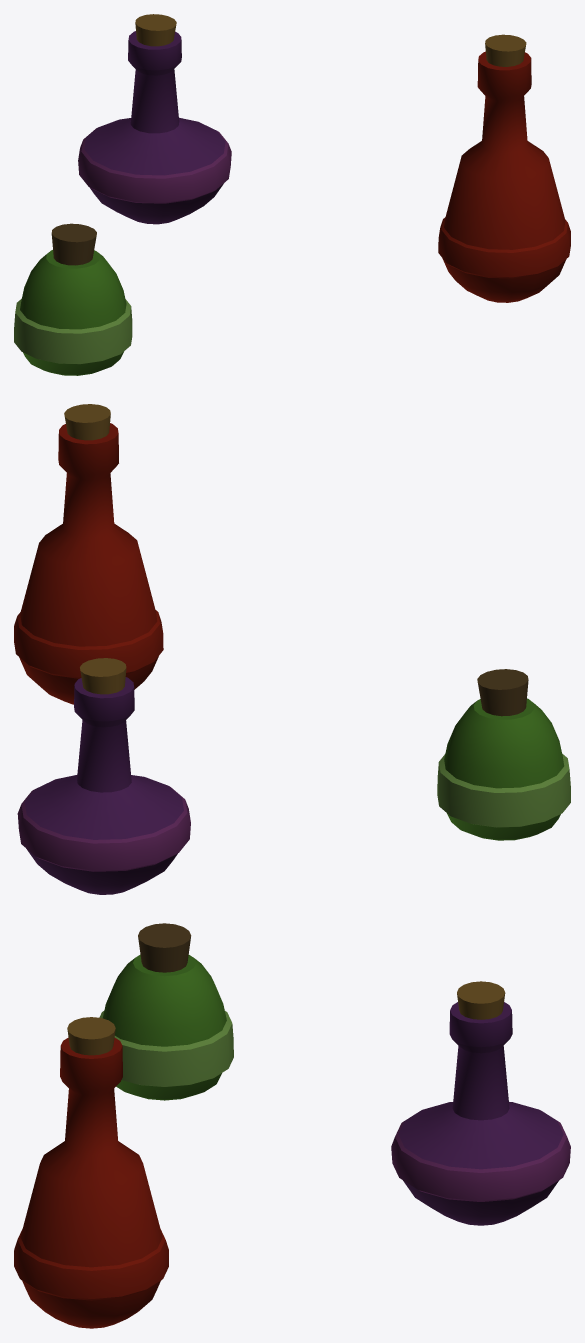
The model's file is extra_alchemy_bottles.glb.
3 views of the same model, one above another, from view 1: azimuth 30°, elevation 25°; view 2: azimuth 150°, elevation 25°; view 3: azimuth 270°, elevation 25° (orthographic). The views are drawn at different scales.
Visible parts, largest first — view 1: Potion_2, Potion_4, Potion_1; view 2: Potion_2, Potion_4, Potion_1; view 3: Potion_2, Potion_4, Potion_1.
Part boxes in pixels (x1=…): Potion_2: x1=438, y1=34, x2=570, y2=302; Potion_4: x1=78, y1=14, x2=231, y2=224; Potion_1: x1=14, y1=223, x2=132, y2=375; Potion_2: x1=14, y1=404, x2=163, y2=704; Potion_4: x1=17, y1=658, x2=190, y2=894; Potion_1: x1=437, y1=669, x2=570, y2=840; Potion_2: x1=14, y1=1017, x2=168, y2=1328; Potion_4: x1=391, y1=981, x2=570, y2=1225; Potion_1: x1=99, y1=923, x2=233, y2=1100.
Size of the model in its own units: 0.5607 by 0.2615 by 0.4576.
